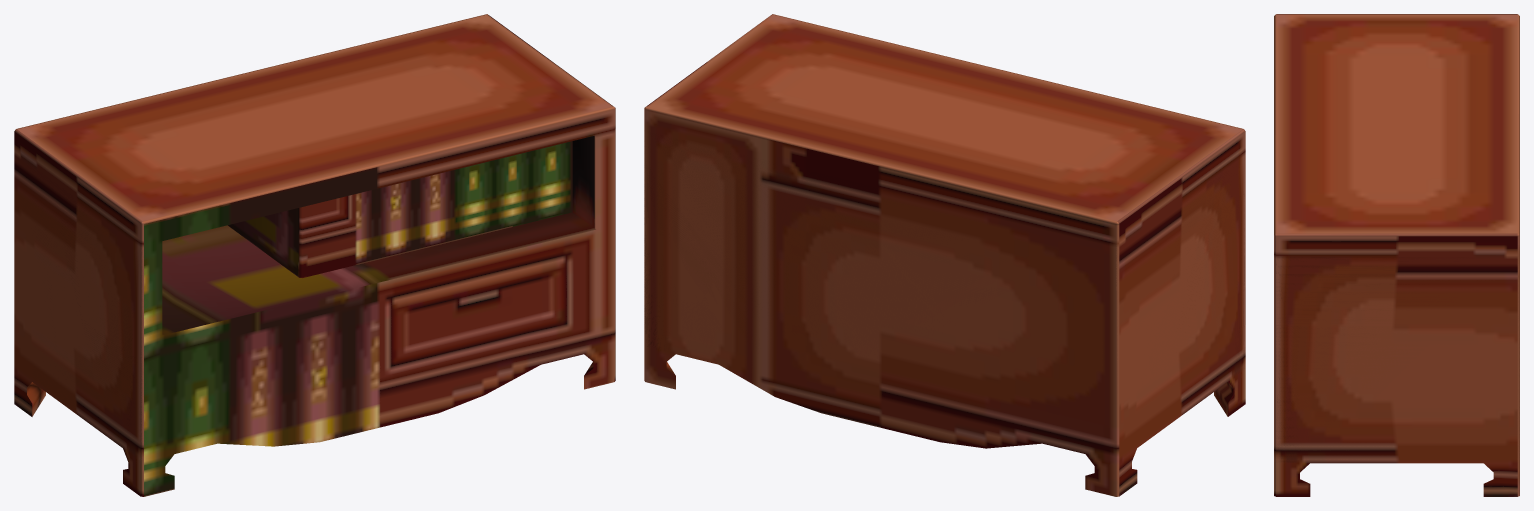
The model's file is rmk_chc_book.dae.
The picture shows the model from 3 angles, left to right: view 1: azimuth 30°, elevation 25°; view 2: azimuth 150°, elevation 25°; view 3: azimuth 270°, elevation 25°; orthographic projection. The views are drawn at different scales.
Parts seen in each view (by area): view 1: rmk_chc_book; view 2: rmk_chc_book; view 3: rmk_chc_book.
Boxes of the visible parts, bbox=[...] form: rmk_chc_book: bbox=[14, 14, 615, 496]; rmk_chc_book: bbox=[644, 14, 1245, 496]; rmk_chc_book: bbox=[1274, 14, 1519, 496].
Size of the model in its own units: 58 by 32.06 by 27.2.
1 material, 1 textured.
